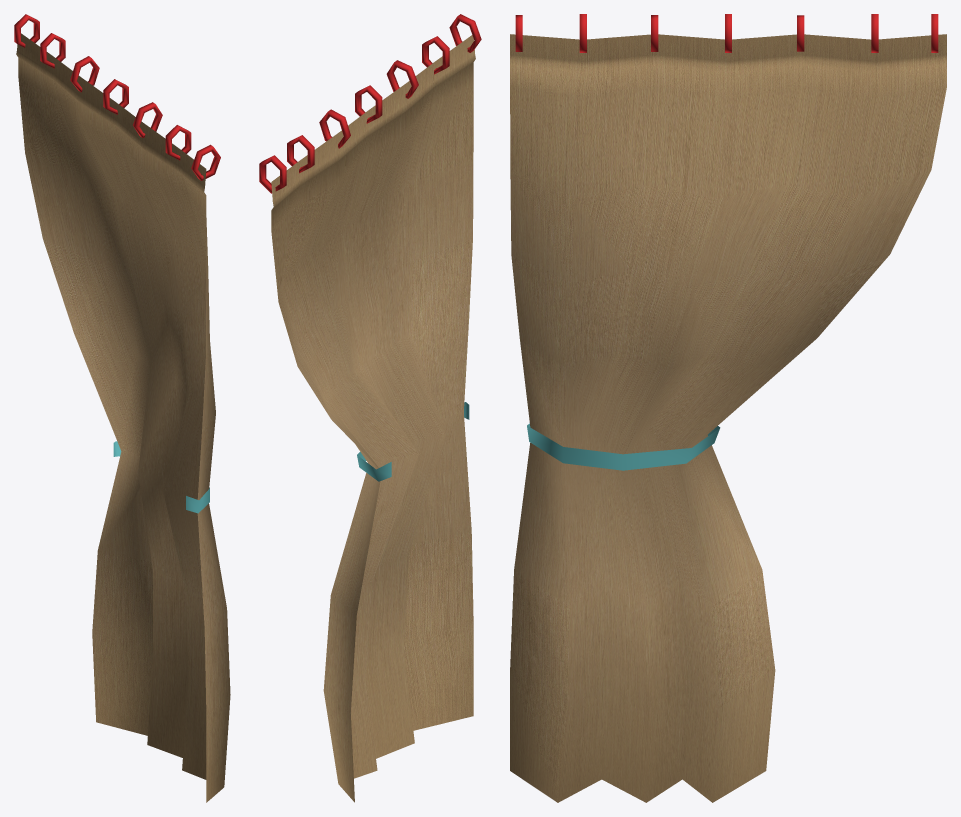
Rendered from MOD_DEC_Curtains_02_02.fbx.
The picture shows the model from 3 angles, left to right: view 1: azimuth 30°, elevation 25°; view 2: azimuth 150°, elevation 25°; view 3: azimuth 270°, elevation 25°; orthographic projection. The views are drawn at different scales.
Parts seen in each view (by area): view 1: HSHP_MOD_Curtains_02_02; view 2: HSHP_MOD_Curtains_02_02; view 3: HSHP_MOD_Curtains_02_02.
Part boxes in pixels (x1,y1,x2,y2): HSHP_MOD_Curtains_02_02: (14,14,230,802); HSHP_MOD_Curtains_02_02: (259,14,481,802); HSHP_MOD_Curtains_02_02: (510,14,946,802).
Bounding box in the file's own units: 0.1073 × 1.15 × 0.5932.
